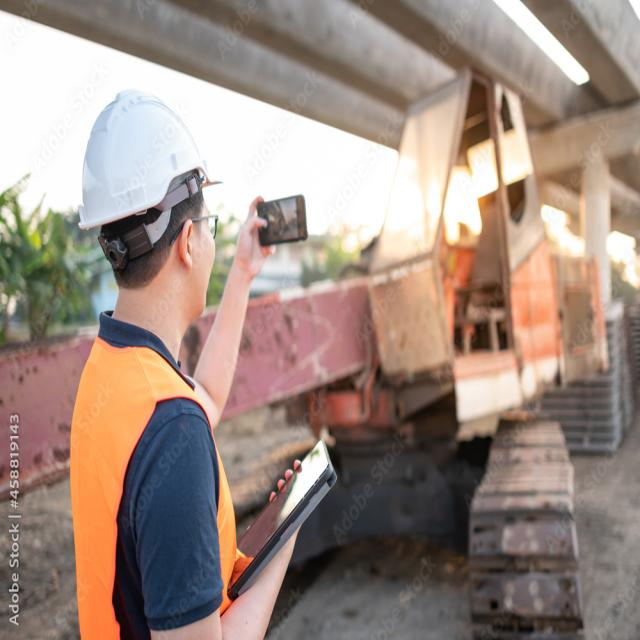helmet: (71, 84, 222, 255)
vest: (57, 319, 239, 640)
